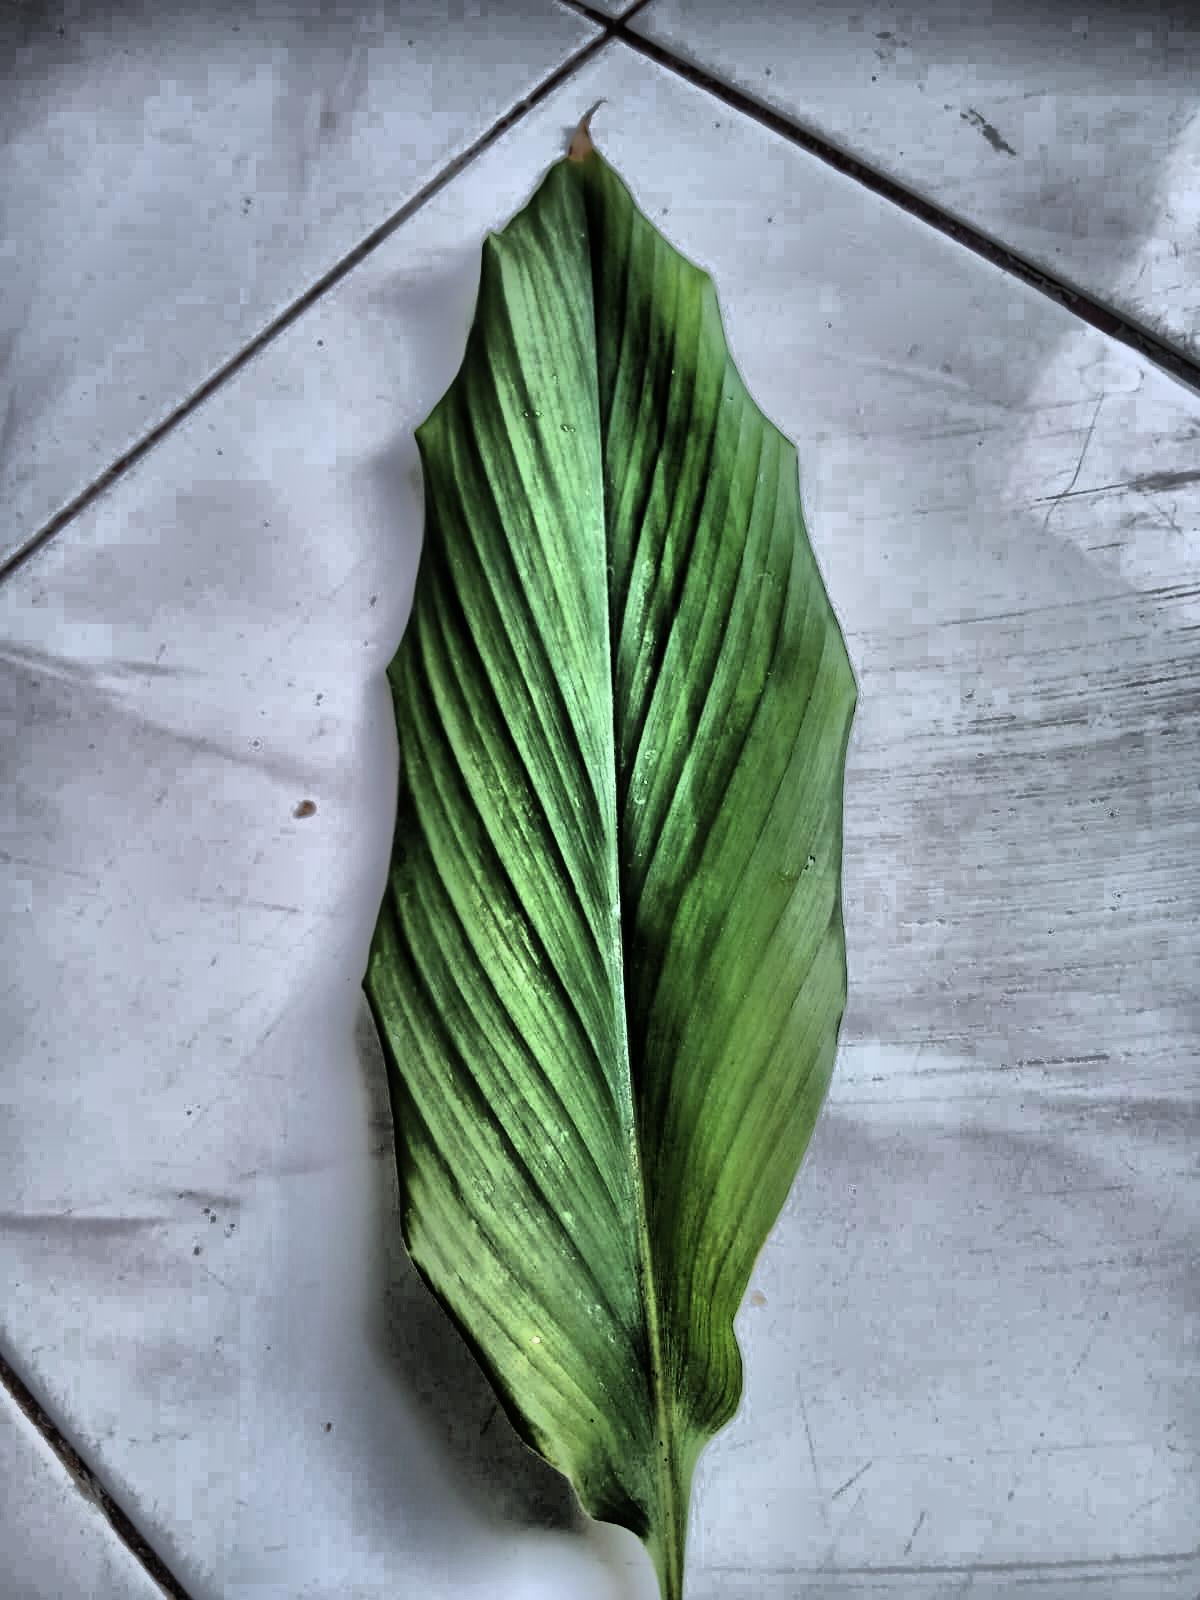daun kunyit: (364, 142, 855, 1599)
